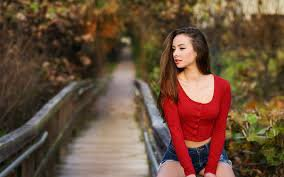noMask: (165, 27, 206, 72)
